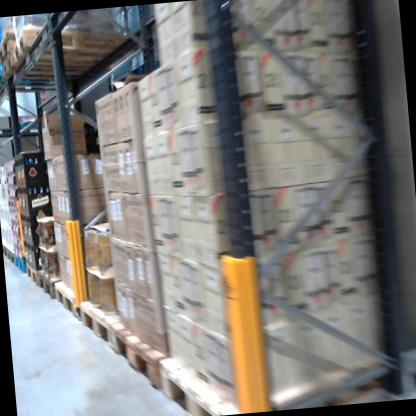pallet: (157, 331, 398, 416), (11, 21, 129, 74), (80, 292, 141, 351), (112, 324, 165, 389), (0, 43, 75, 87), (0, 64, 79, 96), (35, 267, 76, 302), (55, 279, 84, 324), (0, 27, 15, 64), (26, 261, 44, 284), (16, 254, 29, 275), (7, 248, 18, 266), (2, 240, 9, 257)
